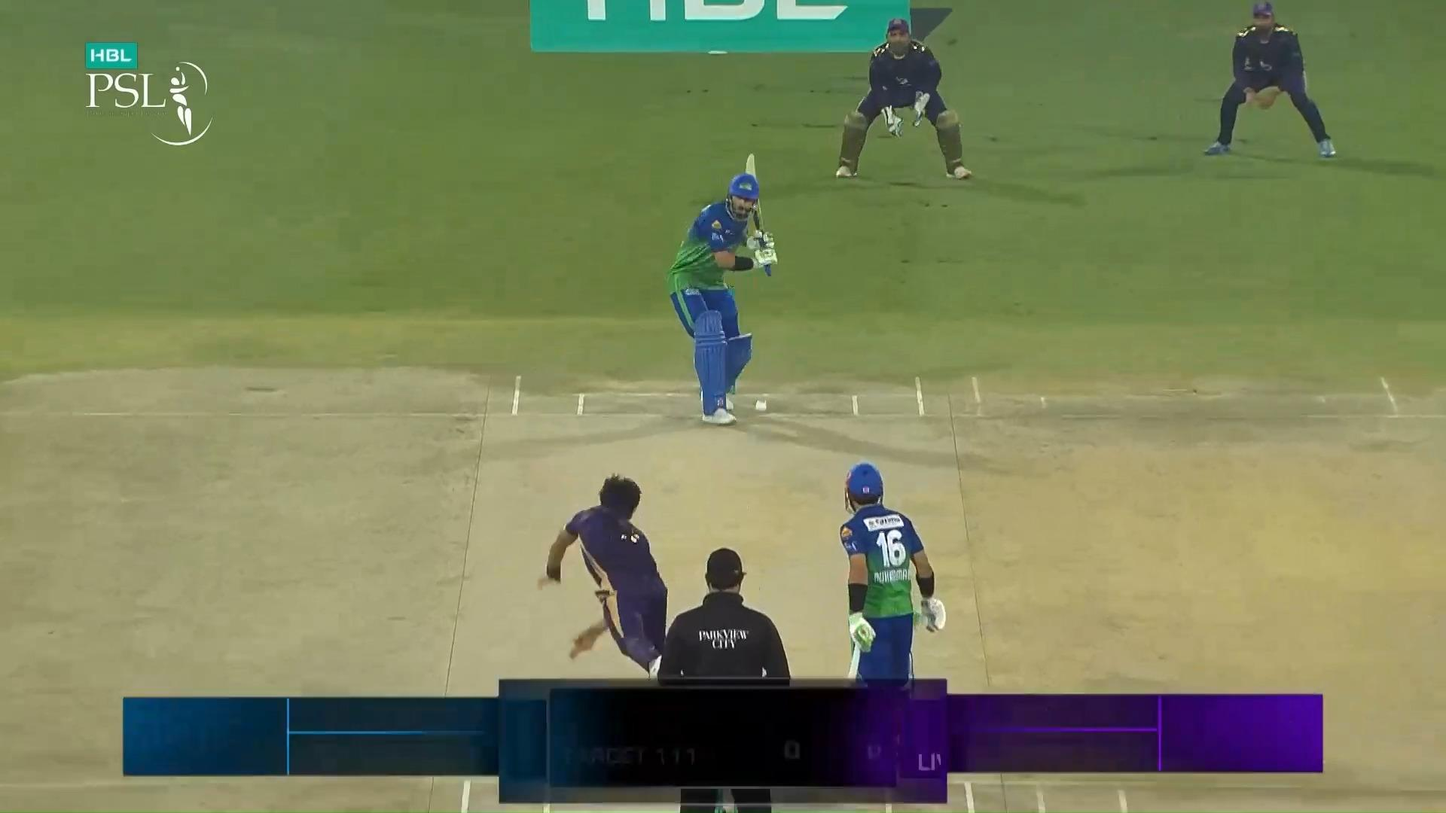batsman: (666, 153, 779, 426)
